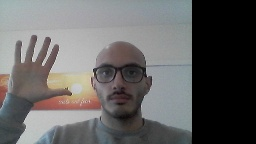Mano_aperta: (5, 32, 74, 103)
